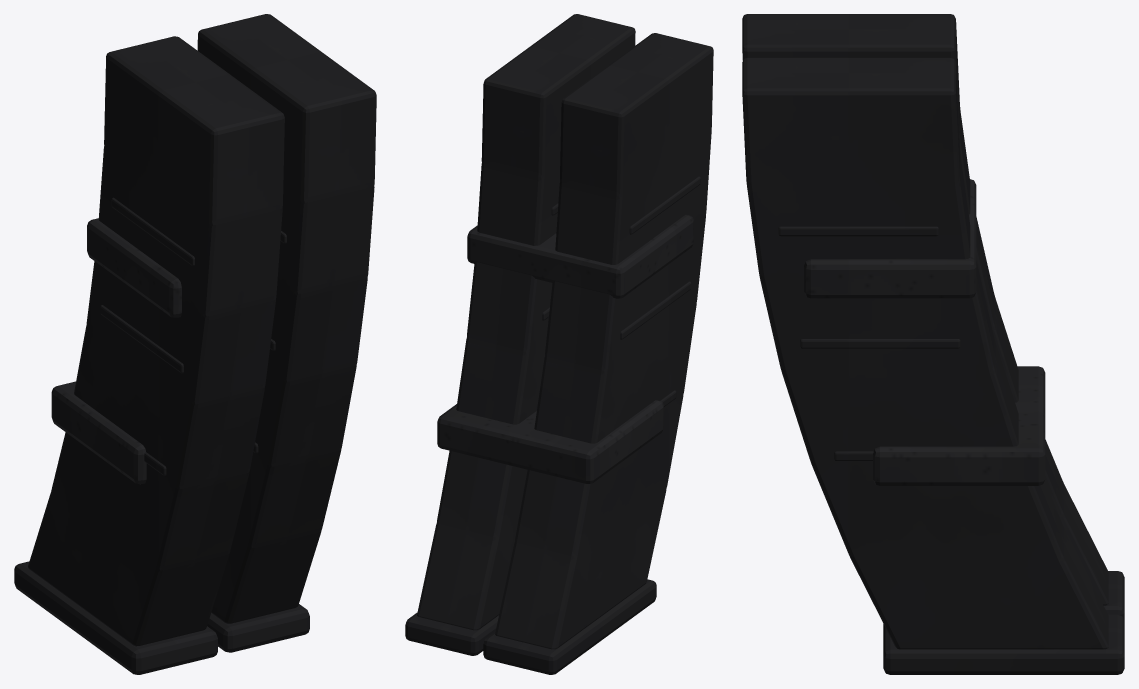
The model's file is mag_quick_rifle.glb.
3 renders of one model, left to right at view 1: azimuth 30°, elevation 25°; view 2: azimuth 150°, elevation 25°; view 3: azimuth 270°, elevation 25°, orthographic. The views are drawn at different scales.
Parts seen in each view (by area): view 1: mag_a, mag_b, mag_a_base, clamp1, clamp0, mag_b_base, mag_a_rib1, mag_a_rib0; view 2: mag_a, mag_b, clamp1, clamp0, mag_a_base, mag_b_base, mag_a_rib1, mag_a_rib0; view 3: mag_b, mag_a, clamp1, clamp0, mag_b_base, mag_b_rib0, mag_b_rib1, mag_a_base.
Part boxes in pixels (box(x1,y1,x2,y2)): mag_a: box(28, 36, 284, 646); mag_b: box(197, 14, 376, 623); mag_a_base: box(14, 561, 217, 674); clamp1: box(51, 381, 146, 484); clamp0: box(87, 218, 181, 317); mag_b_base: box(207, 604, 309, 652); mag_a_rib1: box(100, 305, 183, 373); mag_a_rib0: box(111, 197, 194, 265); mag_a: box(495, 33, 713, 649); mag_b: box(417, 14, 635, 630); clamp1: box(437, 400, 663, 483); clamp0: box(467, 214, 693, 298); mag_a_base: box(483, 579, 656, 674); mag_b_base: box(405, 612, 498, 655); mag_a_rib1: box(620, 281, 691, 339); mag_a_rib0: box(629, 176, 700, 234); mag_b: box(742, 57, 1108, 649); mag_a: box(742, 14, 1108, 605); clamp1: box(873, 366, 1045, 485); clamp0: box(804, 179, 976, 298); mag_b_base: box(883, 614, 1124, 674); mag_b_rib0: box(778, 226, 938, 236); mag_b_rib1: box(800, 339, 960, 348); mag_a_base: box(1104, 571, 1124, 620).
Size of the model in its own units: 0.06 by 0.187 by 0.1109.
Materials: 2 (2 with a texture image).
